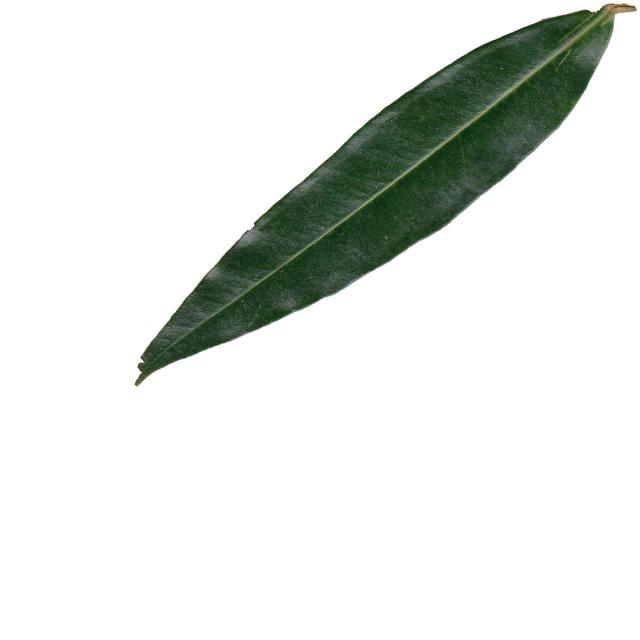Medicinal-Rose Apple: (137, 6, 634, 378)
